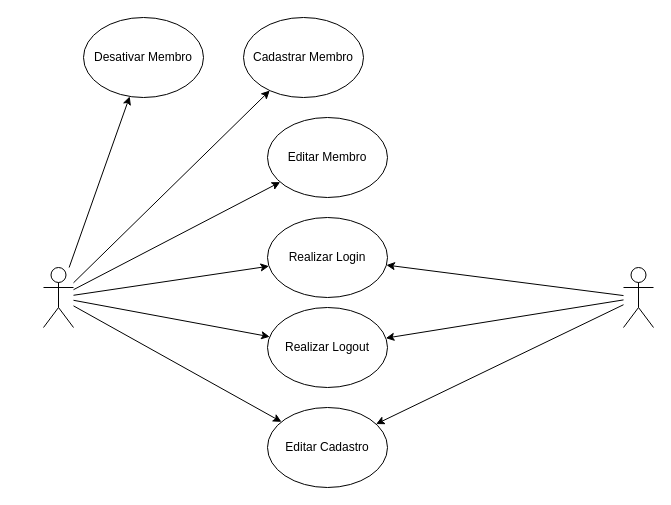
Image size: 671x505. Some labels were removed from this diagram. The shapes that lost their labels are listed below. From the top down, each one's centre as x and y in pixels, then its label:
At [58,297]: "Gestor / Diretor".
At [638,297]: "Colab".
